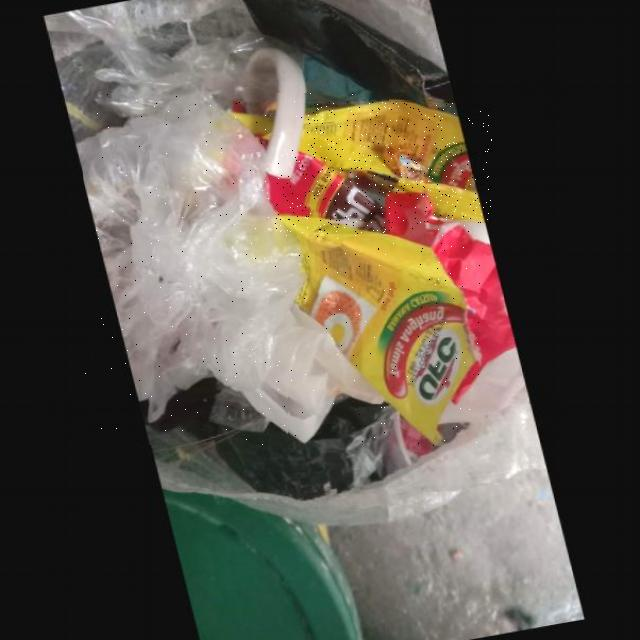plastic: (84, 93, 389, 444)
wrapper: (288, 215, 480, 447), (308, 101, 492, 222), (276, 152, 392, 233)
